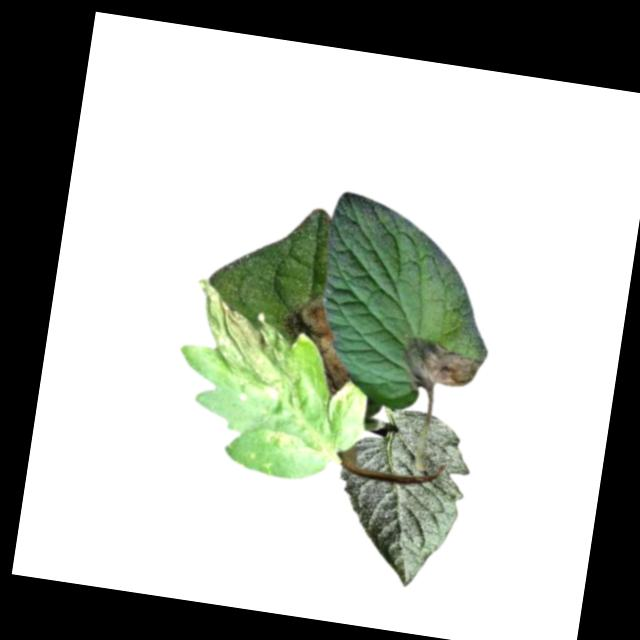Late_blight: (181, 282, 311, 402), (270, 288, 362, 397), (398, 334, 485, 398), (259, 424, 295, 449)
healthy: (322, 399, 478, 593)
